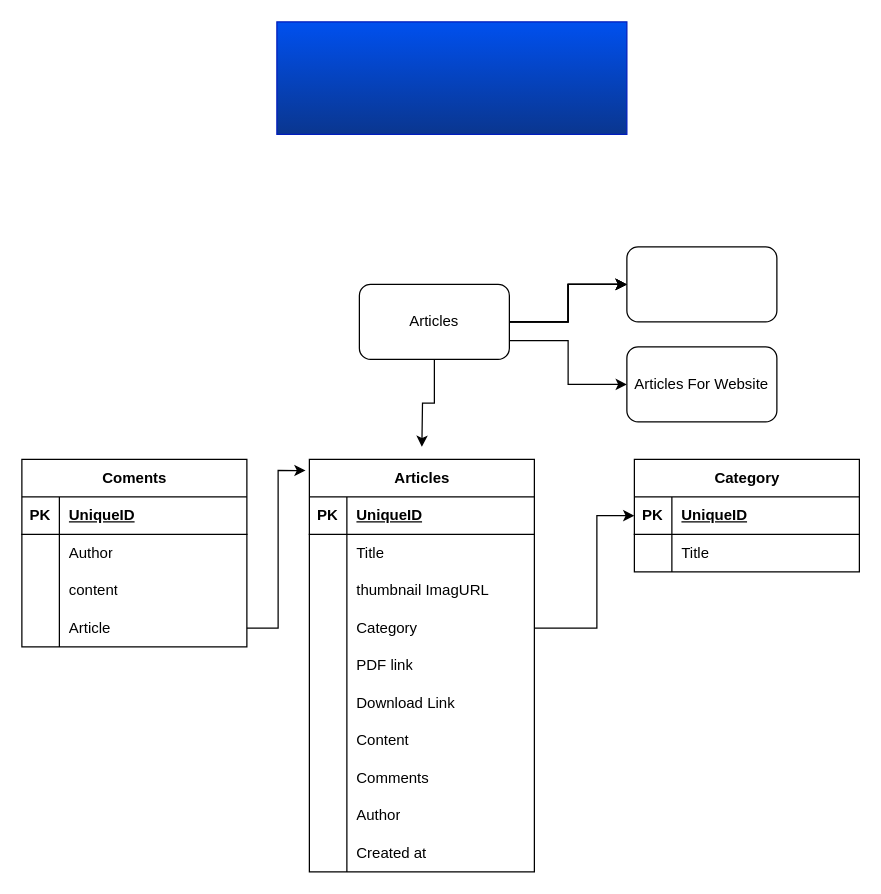
This 881x894 diagram has some shape labels left out. The centre of each missing label's shape, as x and y in pixels:
"Articles Data structures" goes at pixel 451 77.
"shared in magazins" goes at pixel 701 284.
